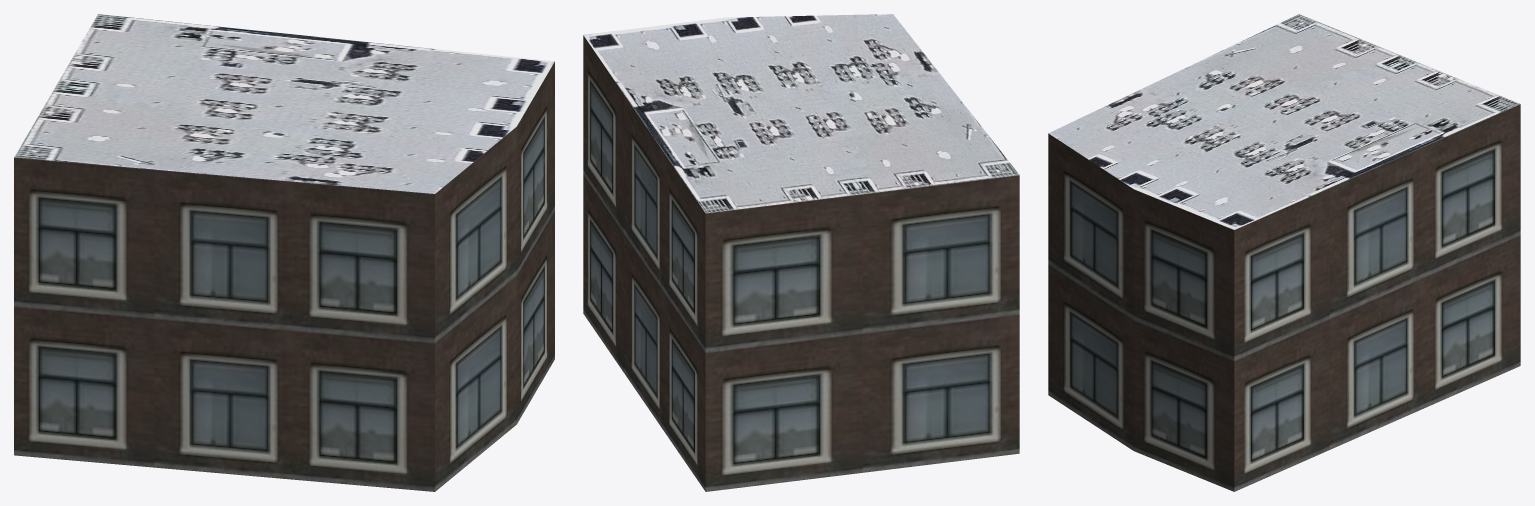
Rendered from ResTex__1792.fbx.
The picture shows the model from 3 angles, left to right: view 1: azimuth 30°, elevation 25°; view 2: azimuth 150°, elevation 25°; view 3: azimuth 270°, elevation 25°; orthographic projection. The views are drawn at different scales.
Parts seen in each view (by area): view 1: CityEngineMaterial_16_m, CityEngineMaterial_15_m; view 2: CityEngineMaterial_16_m, CityEngineMaterial_15_m; view 3: CityEngineMaterial_16_m, CityEngineMaterial_15_m.
Part boxes in pixels (bbox=[...]): CityEngineMaterial_16_m: bbox=[14, 62, 554, 491]; CityEngineMaterial_15_m: bbox=[14, 14, 554, 193]; CityEngineMaterial_16_m: bbox=[583, 35, 1019, 491]; CityEngineMaterial_15_m: bbox=[583, 14, 1019, 213]; CityEngineMaterial_16_m: bbox=[1048, 104, 1520, 491]; CityEngineMaterial_15_m: bbox=[1048, 14, 1519, 229].
Size of the model in its own units: 10.62 by 6 by 9.81.
Materials: 2 (2 with a texture image).
